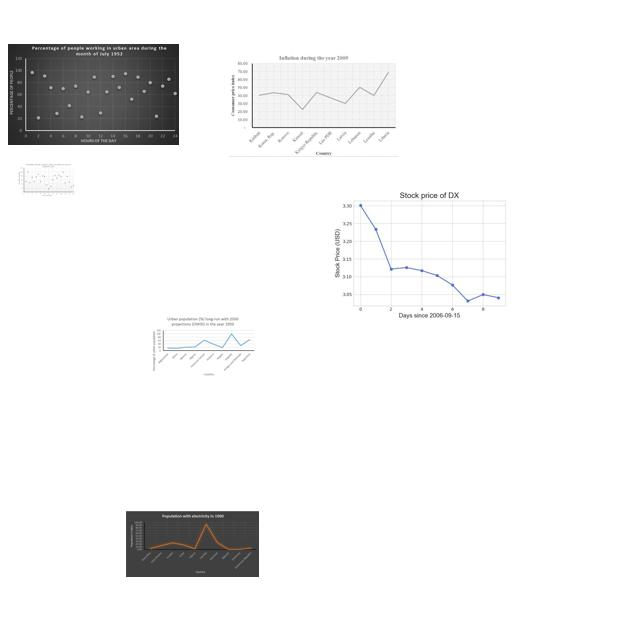Graph: (329, 179, 525, 326), (229, 54, 399, 157), (8, 44, 179, 145), (126, 511, 259, 577), (151, 316, 256, 377), (18, 163, 75, 197)
